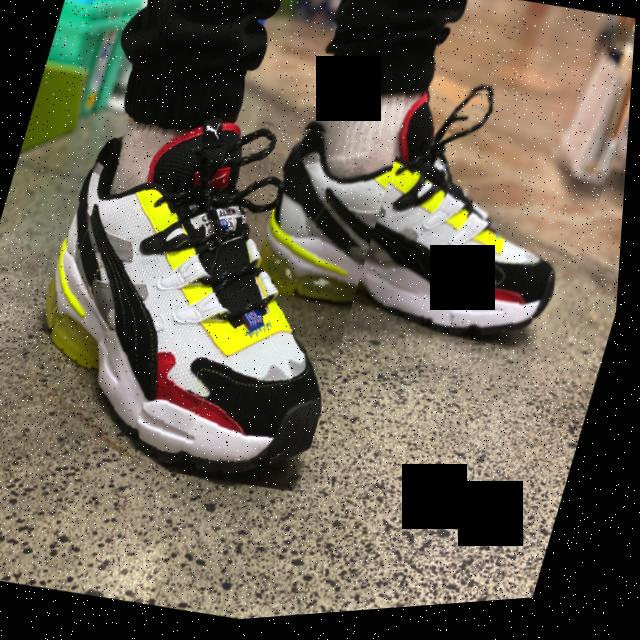shoe: (0, 65, 408, 516), (231, 46, 633, 382)
